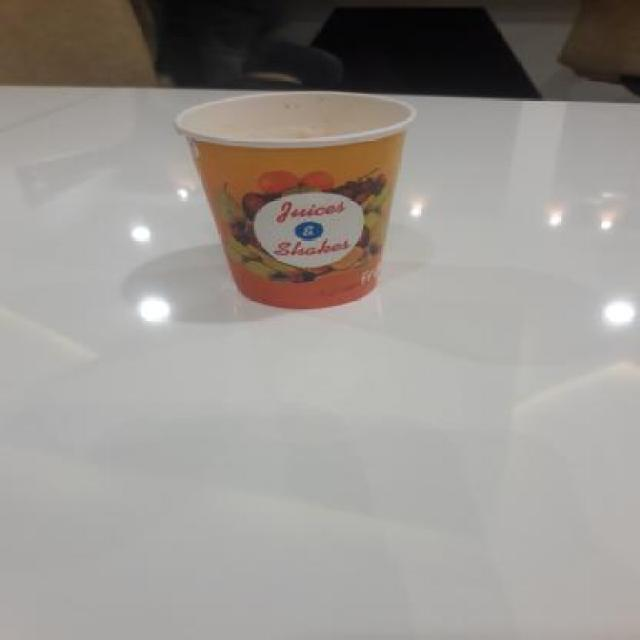garbage: (137, 70, 522, 359)
